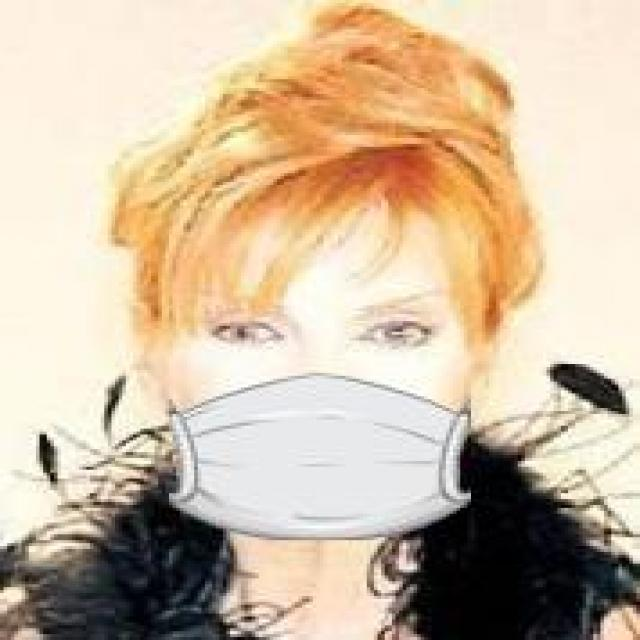mask: (0, 8, 557, 566)
